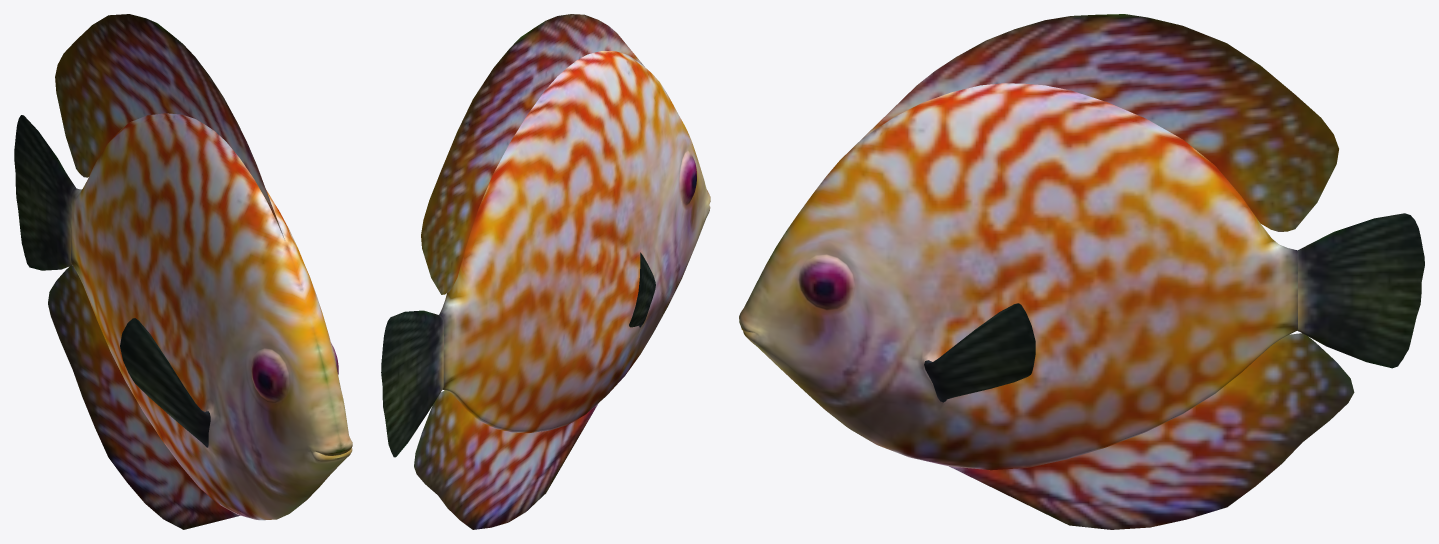
File: fish2.glb
3 renders of one model, left to right at view 1: azimuth 30°, elevation 25°; view 2: azimuth 150°, elevation 25°; view 3: azimuth 270°, elevation 25°, orthographic. The views are drawn at different scales.
Visible parts, largest first — view 1: fish_1; view 2: fish_1; view 3: fish_1.
Boxes of the visible parts, x1,y1,x2,y2 form: fish_1: (14,14,352,529); fish_1: (381,14,710,529); fish_1: (739,14,1424,529).
Bounding box in the file's own units: 1.17 × 3.44 × 4.14.
Materials: 1 (1 with a texture image).
